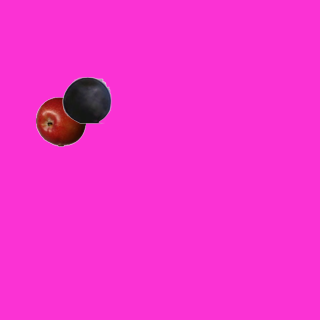Apple Braeburn: (35, 96, 85, 146)
Grape Blue: (61, 74, 111, 124)
